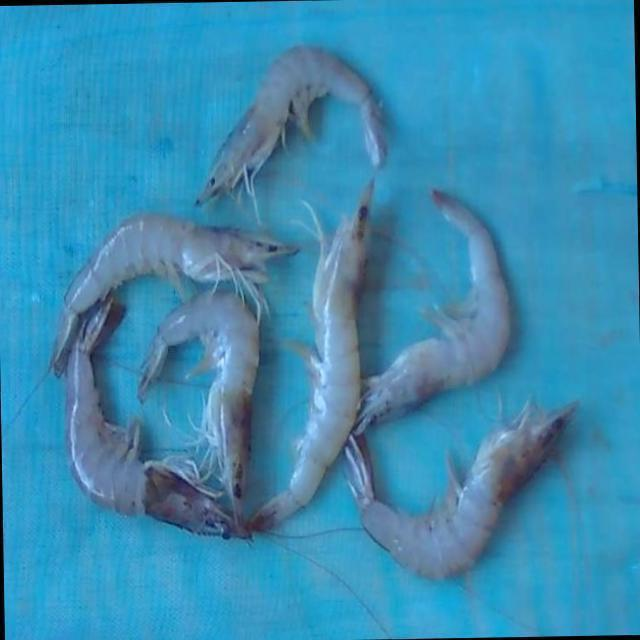shrimp: (248, 180, 374, 531), (67, 294, 247, 537), (345, 405, 576, 579), (50, 214, 297, 375), (354, 190, 509, 435), (196, 46, 388, 204), (138, 291, 259, 526)
